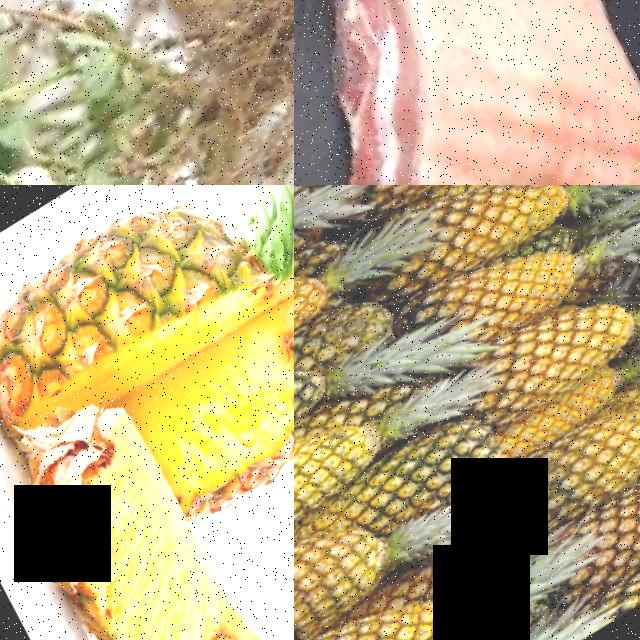pineapple: (35, 185, 294, 533), (0, 361, 294, 640), (294, 388, 437, 548), (508, 378, 640, 544), (469, 221, 614, 355), (486, 356, 640, 482), (506, 277, 640, 417), (294, 498, 420, 640), (310, 556, 507, 640), (444, 185, 613, 282), (294, 222, 377, 406), (560, 427, 640, 609), (294, 332, 372, 481), (344, 185, 557, 225)
pork belly: (294, 0, 640, 185)
